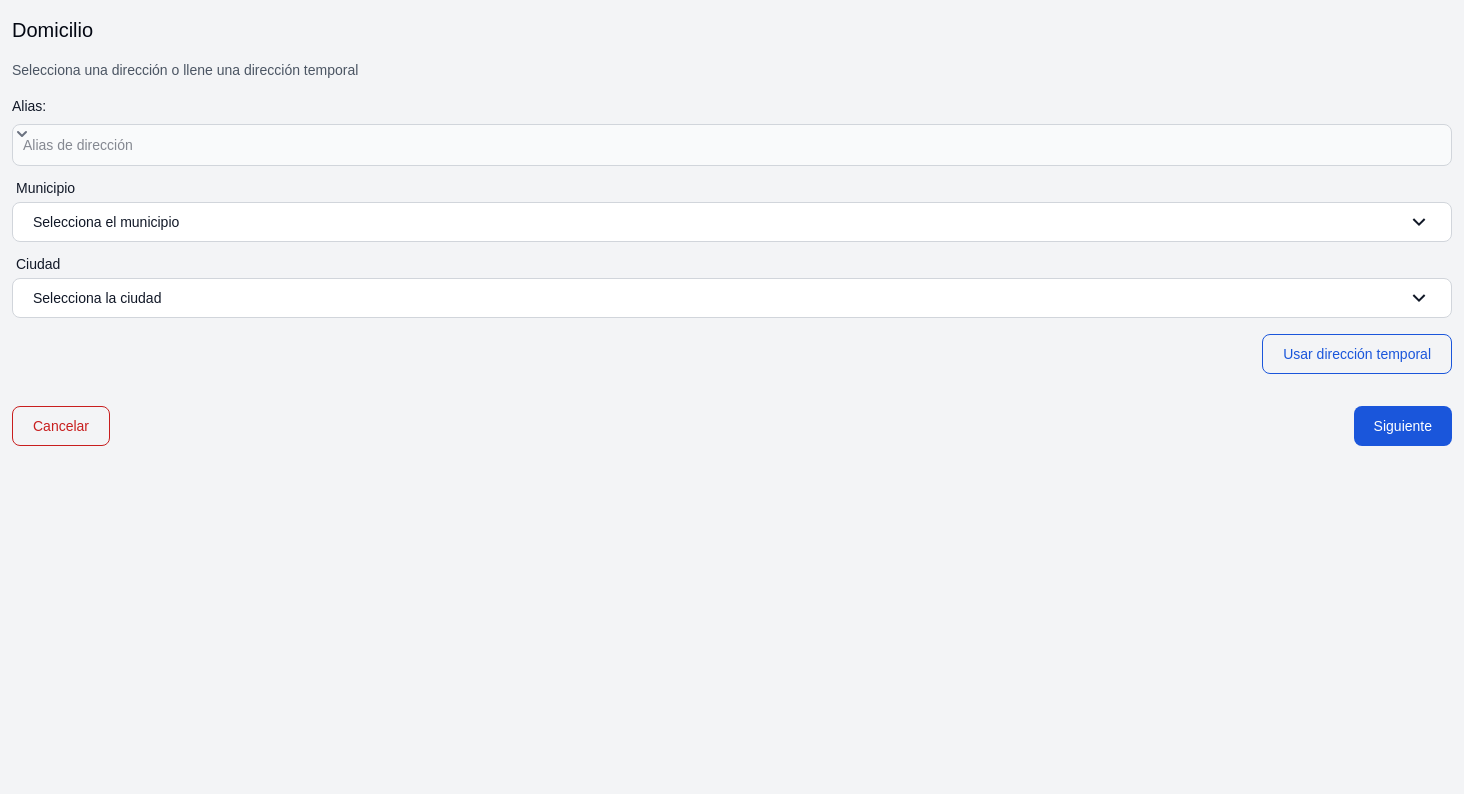
Feature: Add Address for Mn Guide Creation › Scenario: Toggle to temporary address form › Given the component renders, When user clicks the temporary address button, Then it should display the temporary address form
The image size is (1464, 794).
When user clicks the temporary address button
Click the button "Usar dirección temporal" at (1357,354), box [1262, 334, 1452, 374]
(page scrolled)
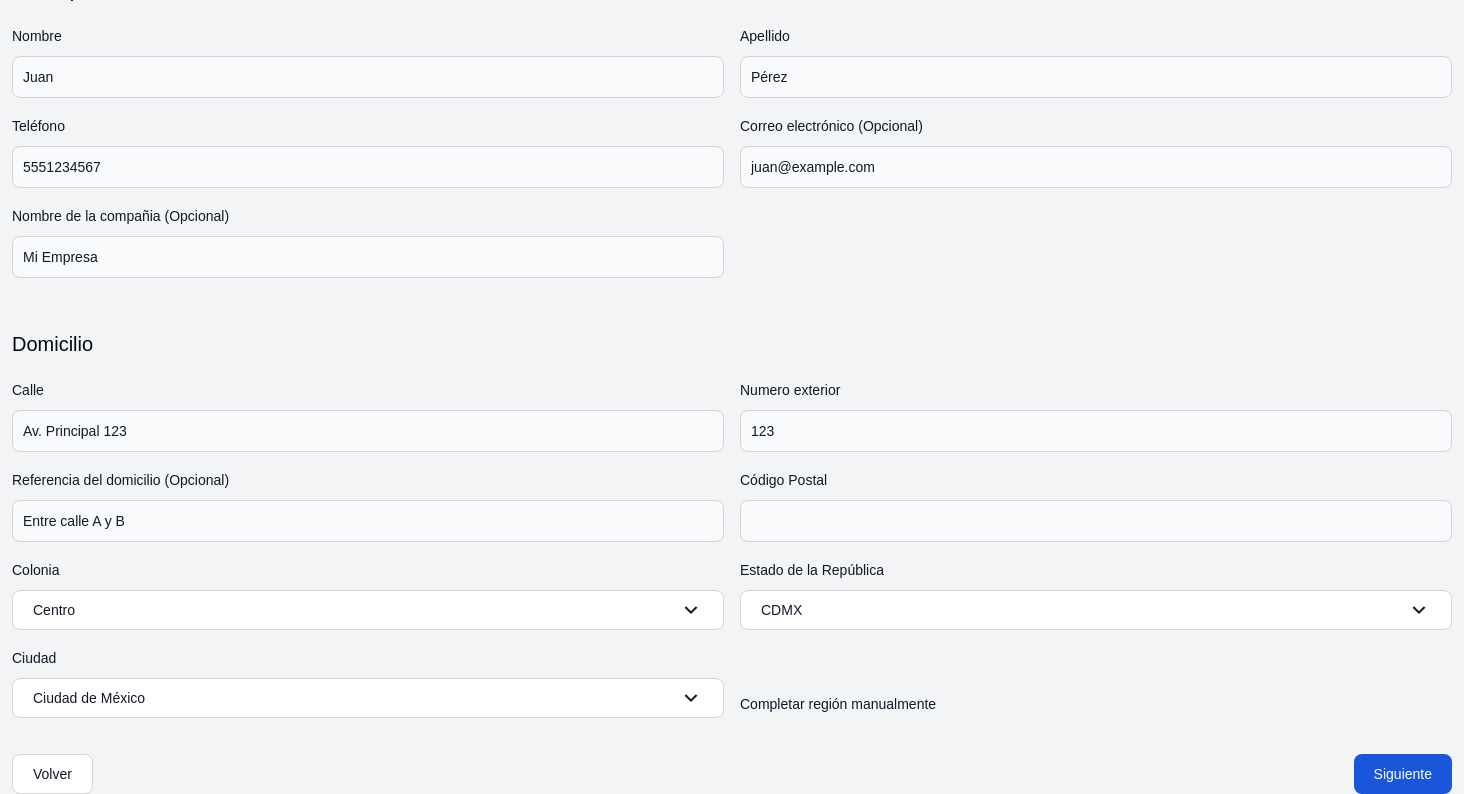
Expected: the button "Volver" is shown, [12, 754, 93, 793]
